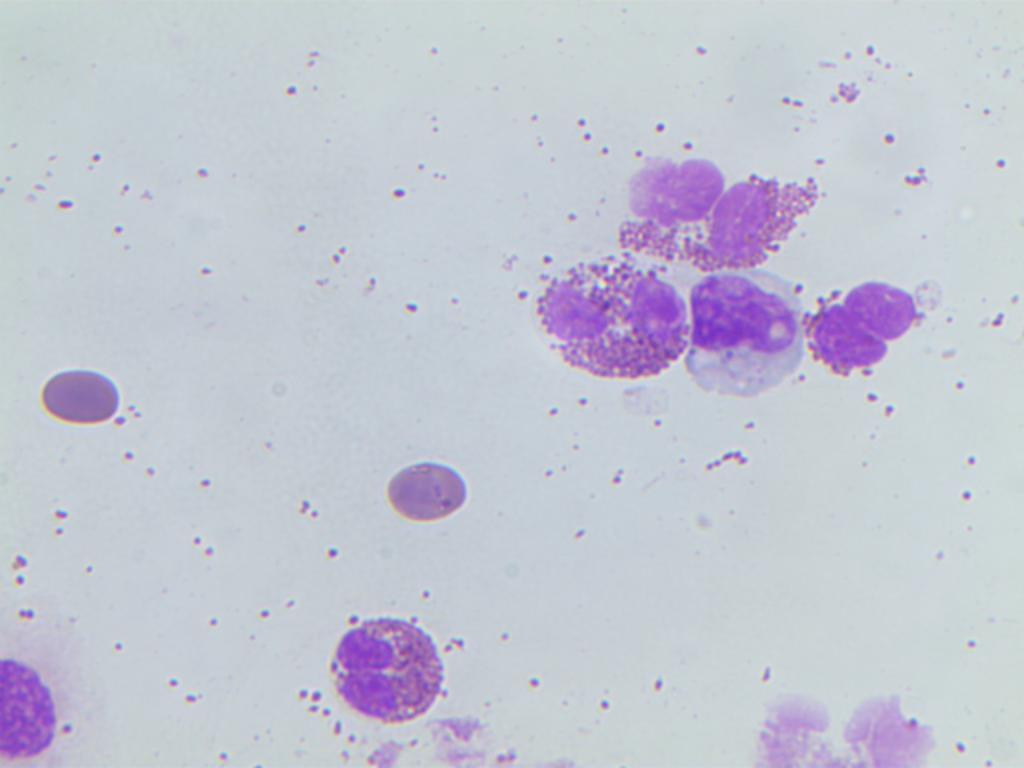artifact: (372, 449, 474, 539), (36, 367, 146, 436)
eosinophil: (517, 256, 691, 394), (318, 589, 458, 738), (810, 238, 924, 401), (609, 112, 717, 276), (714, 168, 827, 268)
epithelial: (0, 633, 89, 768)
lymphocyte: (686, 263, 805, 411)
